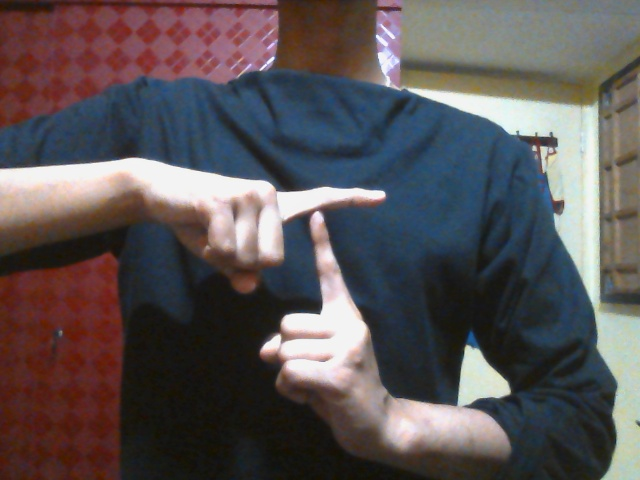T: (164, 165, 398, 432)
